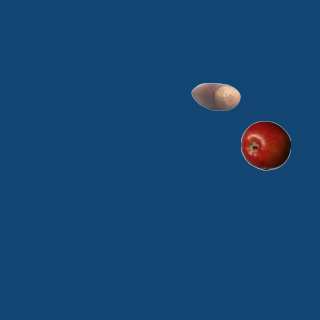Apple Braeburn: (240, 120, 290, 170)
Hazelnut: (190, 71, 240, 121)
